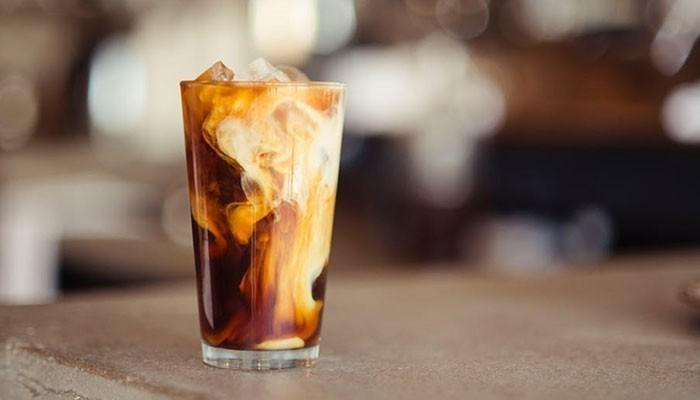glass-normal: (178, 76, 349, 373)
